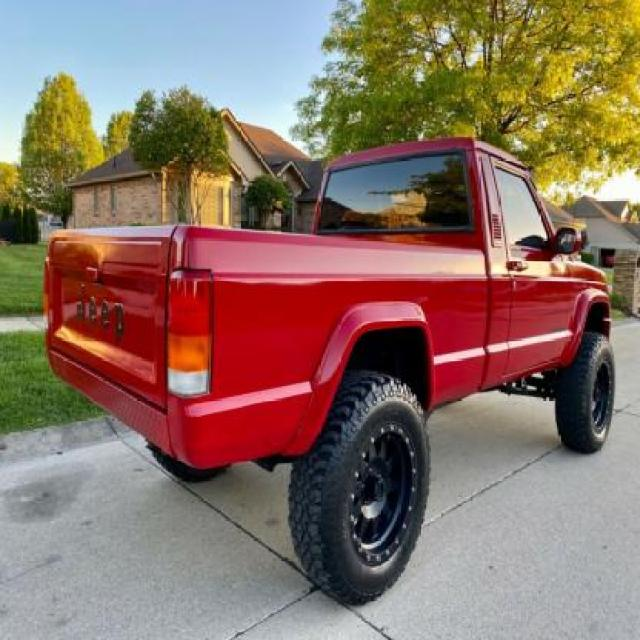Jeep: (42, 135, 615, 602)
